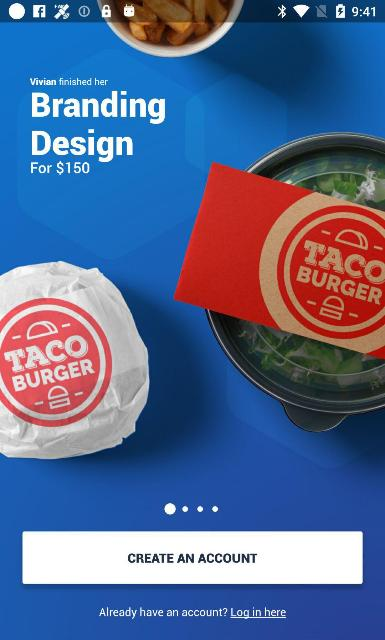BackgroundImage: (0, 22, 384, 640)
PageIndicator: (164, 502, 218, 516)
Text: (31, 90, 165, 176), (99, 606, 286, 618), (128, 554, 258, 562), (30, 77, 108, 85)
TextButton: (22, 530, 362, 584)
UpperTaskBar: (0, 0, 384, 22)
